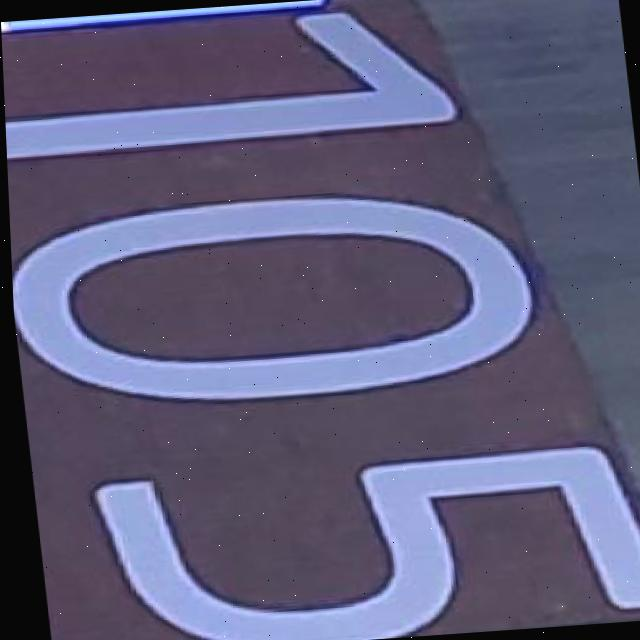character: (8, 172, 553, 420), (87, 433, 640, 640), (0, 0, 469, 175)
